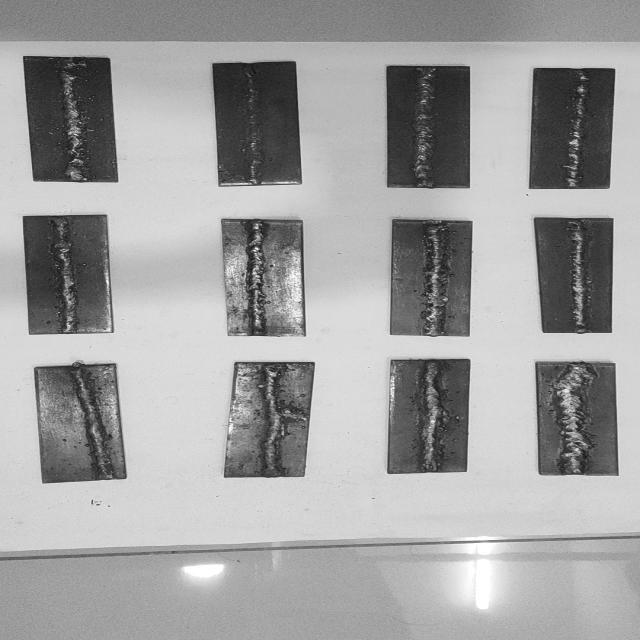Defect: (550, 362, 598, 474), (258, 404, 312, 424), (418, 407, 453, 430), (58, 64, 90, 78), (58, 150, 90, 164), (568, 225, 590, 239), (245, 150, 265, 164), (243, 80, 265, 92)
Welding Line: (72, 368, 115, 478), (553, 365, 594, 473), (61, 59, 86, 181), (52, 218, 76, 332), (565, 70, 588, 188), (424, 223, 447, 335), (262, 366, 284, 477), (422, 362, 442, 470), (416, 68, 434, 187), (248, 220, 266, 334), (572, 221, 589, 332), (248, 64, 262, 184)
Workpiece: (23, 55, 120, 184), (33, 364, 130, 484), (211, 60, 303, 186), (20, 215, 114, 335), (222, 361, 314, 478), (386, 65, 472, 189), (530, 66, 616, 190), (220, 218, 308, 338), (533, 362, 622, 476), (388, 218, 472, 337), (386, 358, 471, 474), (534, 216, 614, 334)
